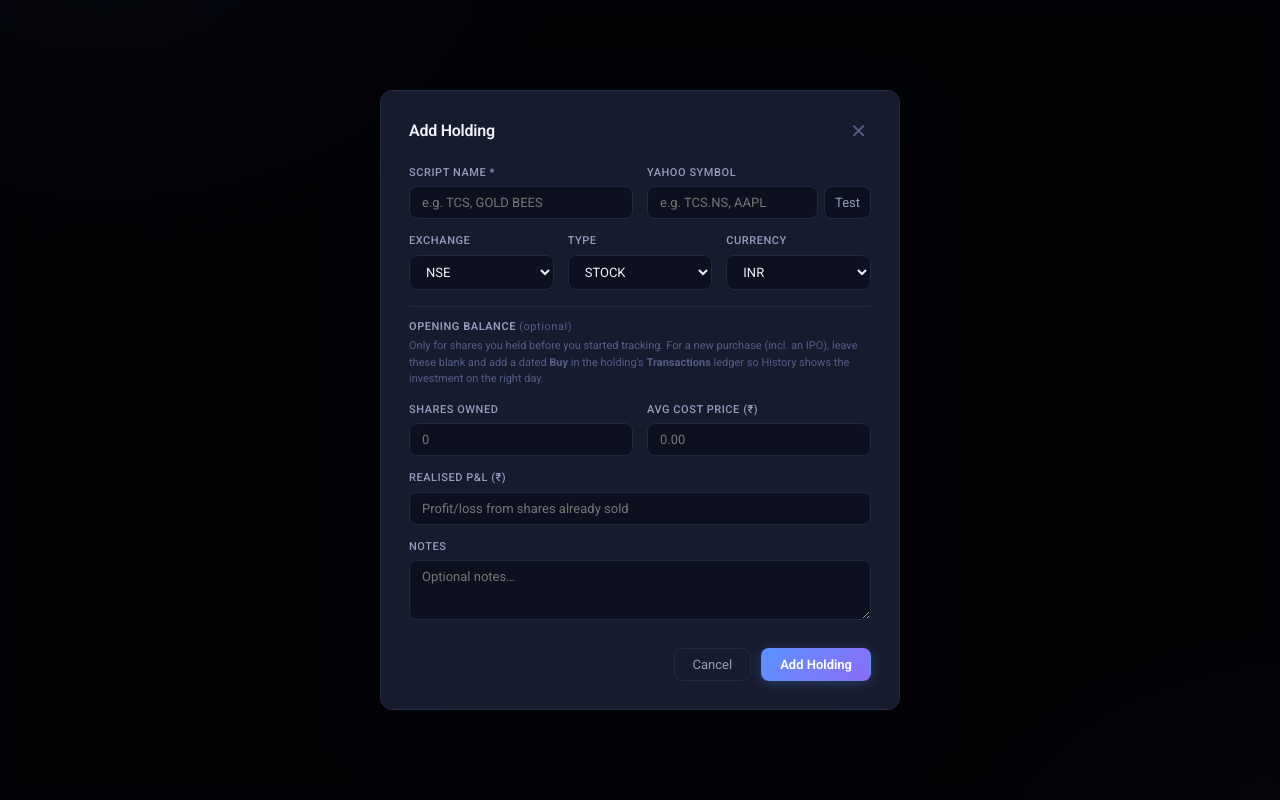
Test: AddEditModal numeric input › rejects malformed cost text instead of coercing it
The width and height of the screenshot is (1280, 800).
Type "VWCE" into the field with placeholder "e.g. TCS, GOLD BEES" at (521, 203), box [409,186,633,219]
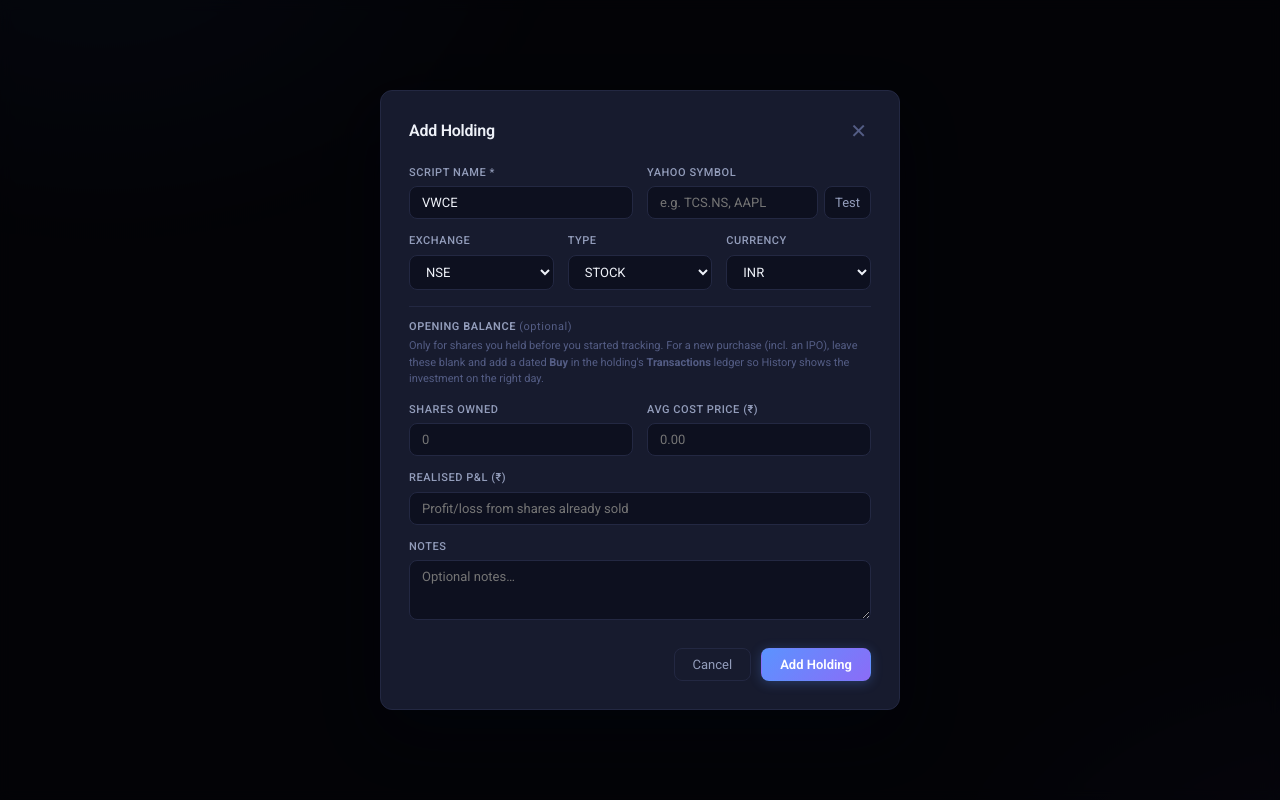
Type "1,,2" into the field with placeholder "0.00" at (759, 440), box [647,423,871,456]
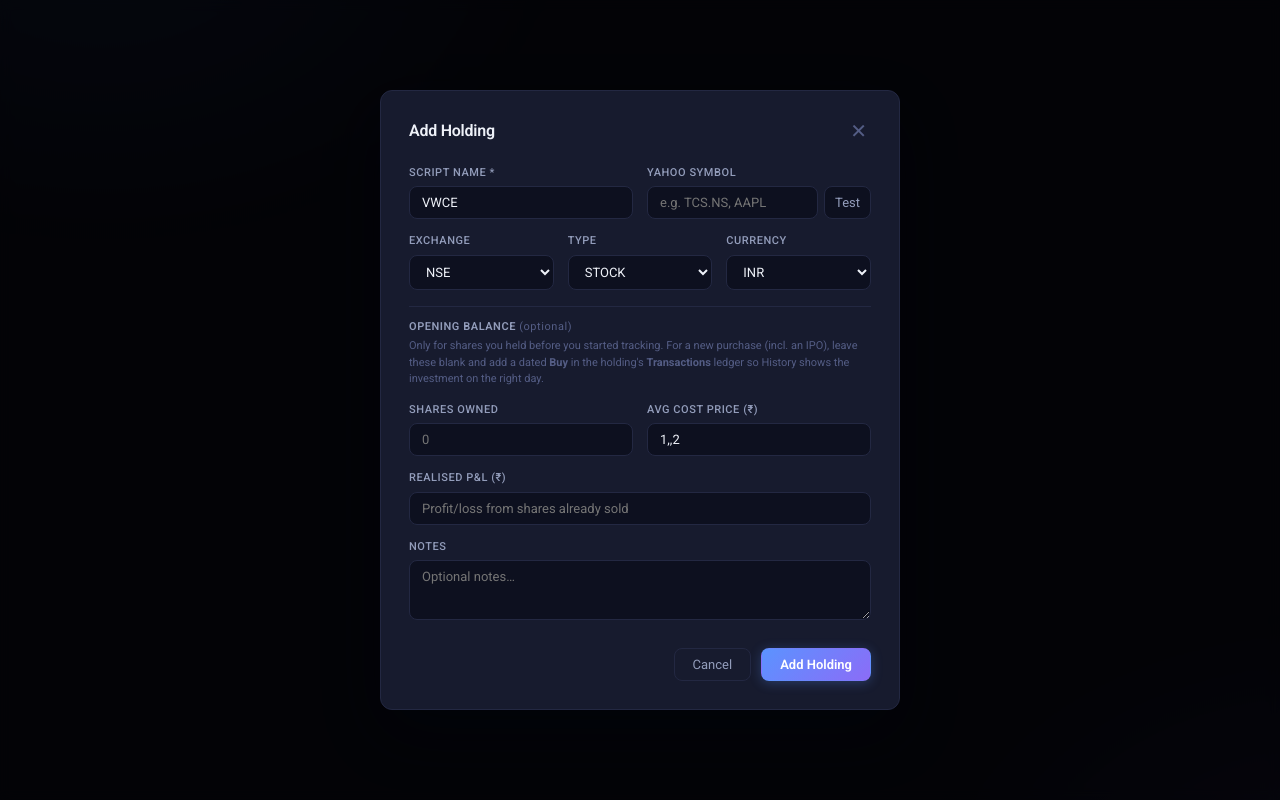
Click the button "Add Holding" at (816, 665), box [761,648,871,681]
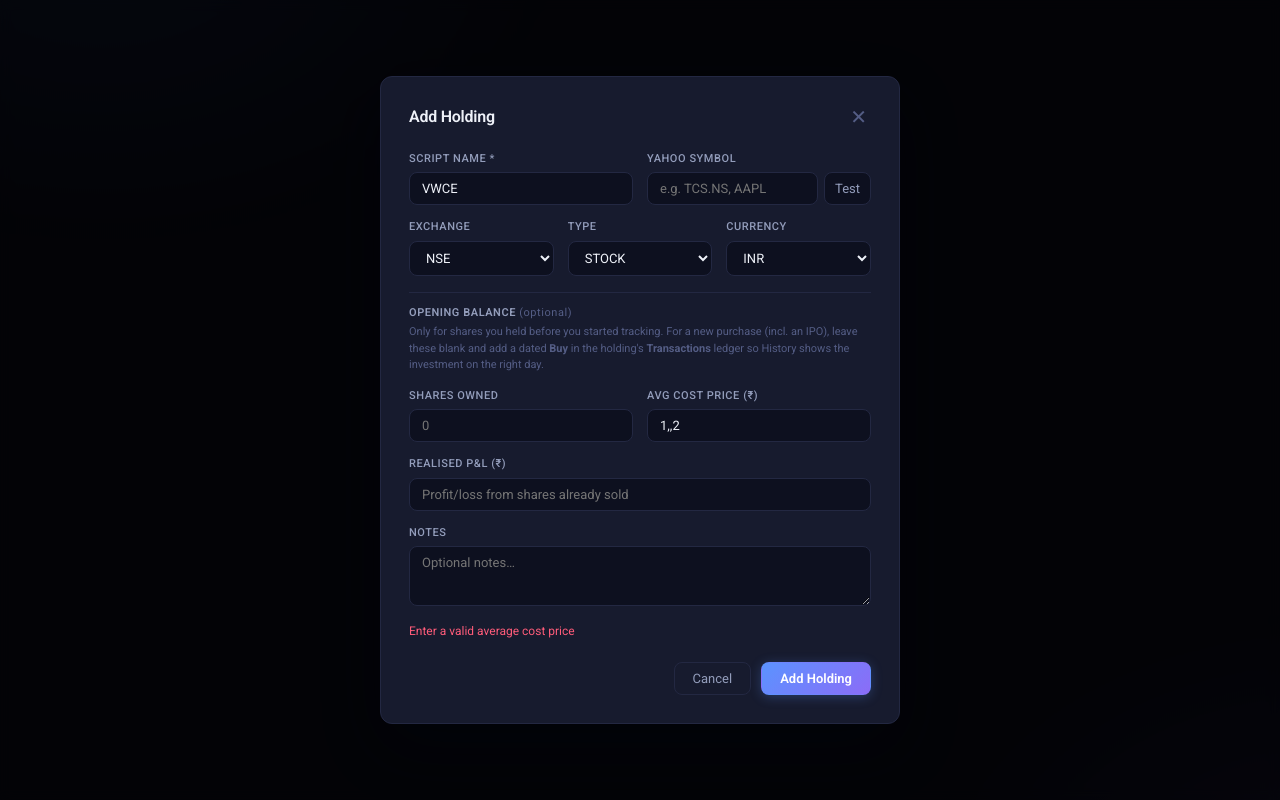
Now the text "Enter a valid average cost price" is shown, box [409,624,575,638]
